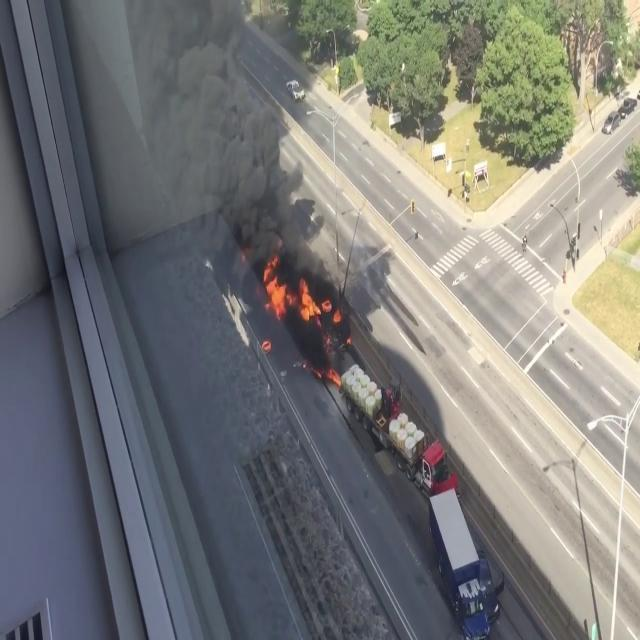Fire: (259, 259, 327, 327)
Smoke: (114, 0, 318, 274)
